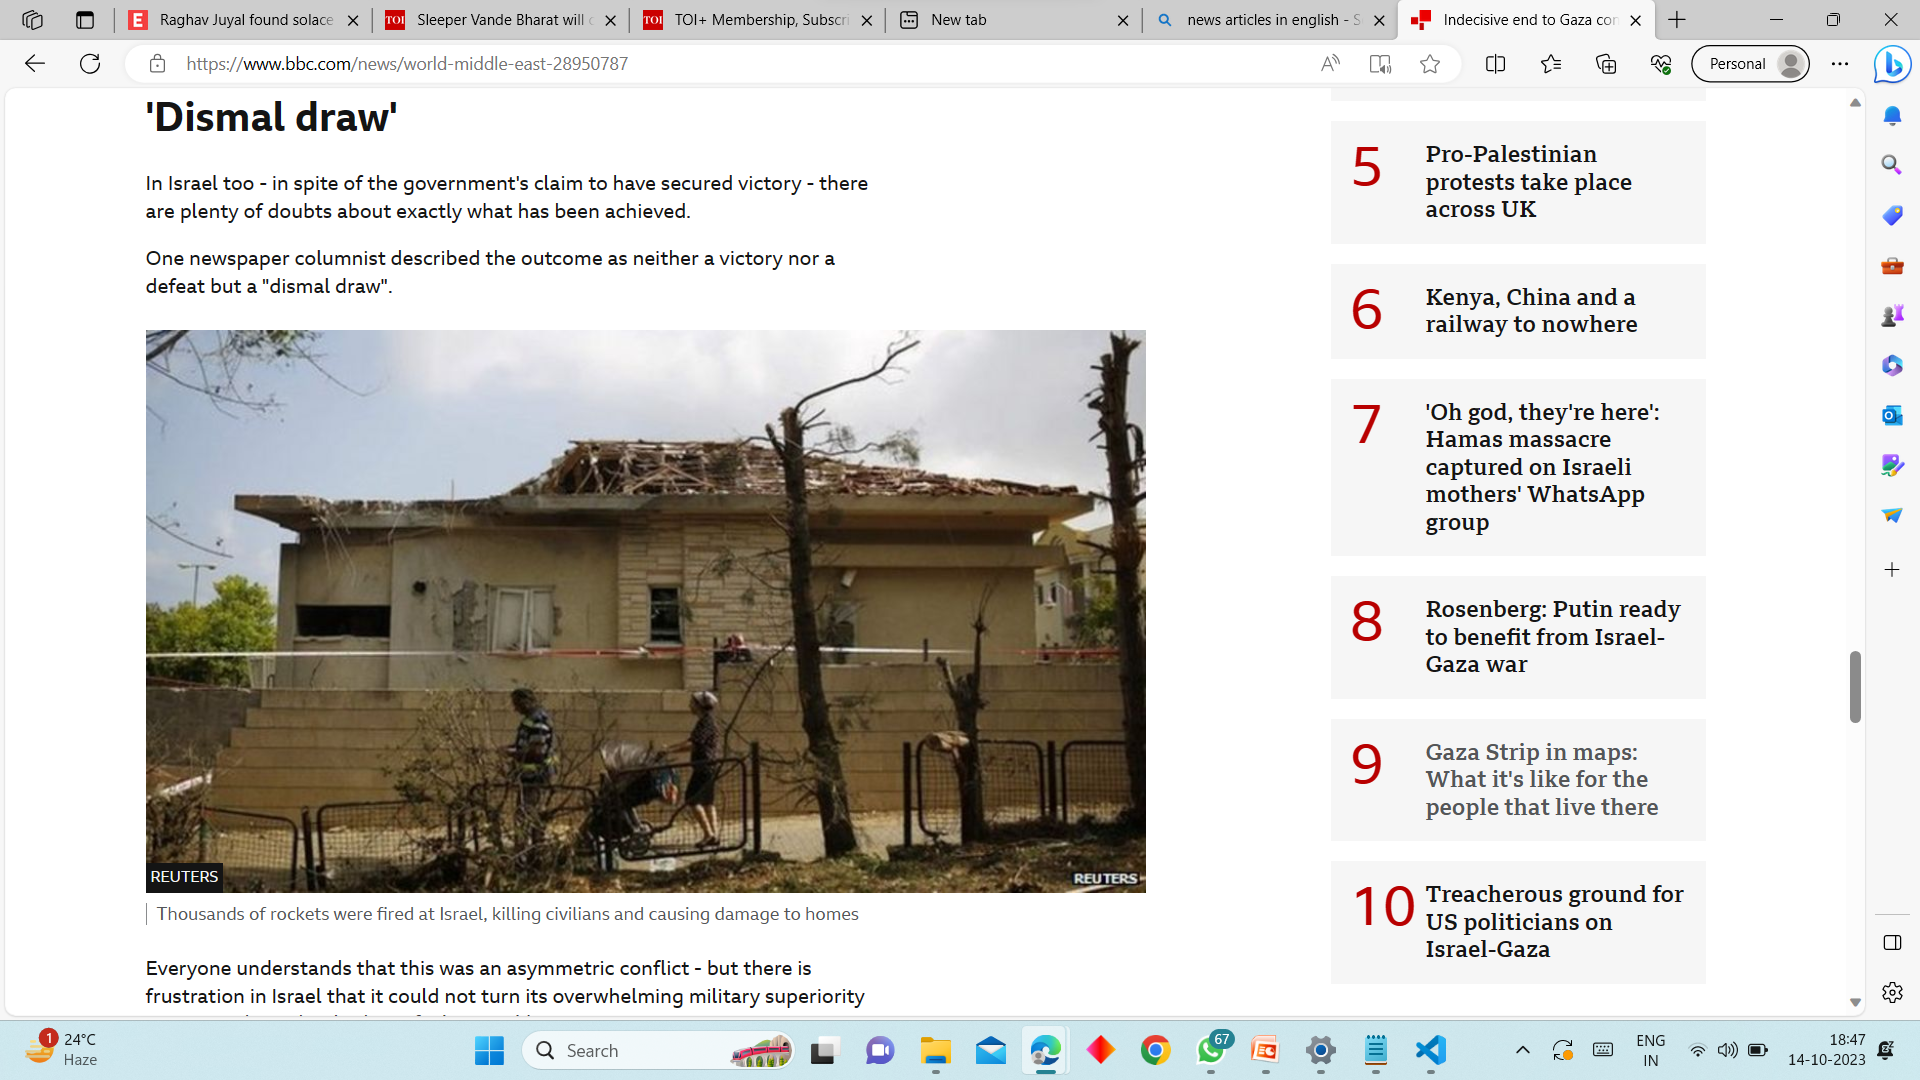Image: (138, 322, 1142, 884)
Paragraph: (1340, 385, 1693, 566), (132, 944, 916, 1013), (138, 239, 887, 309), (138, 154, 973, 216), (1331, 112, 1706, 244), (1346, 575, 1679, 709), (1346, 727, 1691, 848), (1348, 868, 1697, 977), (1331, 264, 1688, 360), (141, 897, 878, 926), (141, 84, 422, 144)
